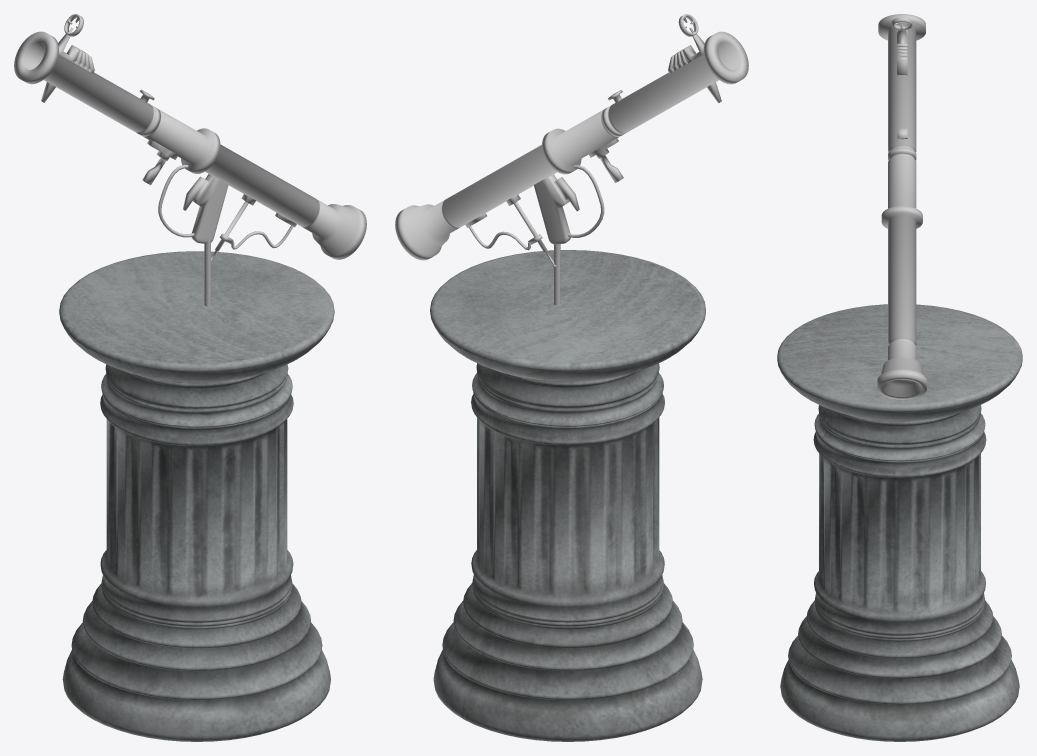
The model's file is BazookaPedestal.fbx.
3 views of the same model, side by side, from view 1: azimuth 30°, elevation 25°; view 2: azimuth 150°, elevation 25°; view 3: azimuth 270°, elevation 25° (orthographic). The views are drawn at different scales.
Parts seen in each view (by area): view 1: Cylinder.002, Cylinder.008; view 2: Cylinder.002, Cylinder.008; view 3: Cylinder.002, Cylinder.008.
Boxes of the visible parts, x1,y1,x2,y2 form: Cylinder.002: (59,251,334,741); Cylinder.008: (14,14,366,306); Cylinder.002: (430,250,705,741); Cylinder.008: (395,14,748,305); Cylinder.002: (777,304,1022,741); Cylinder.008: (877,14,926,399).
Size of the model in its own units: 317 by 622 by 221.
